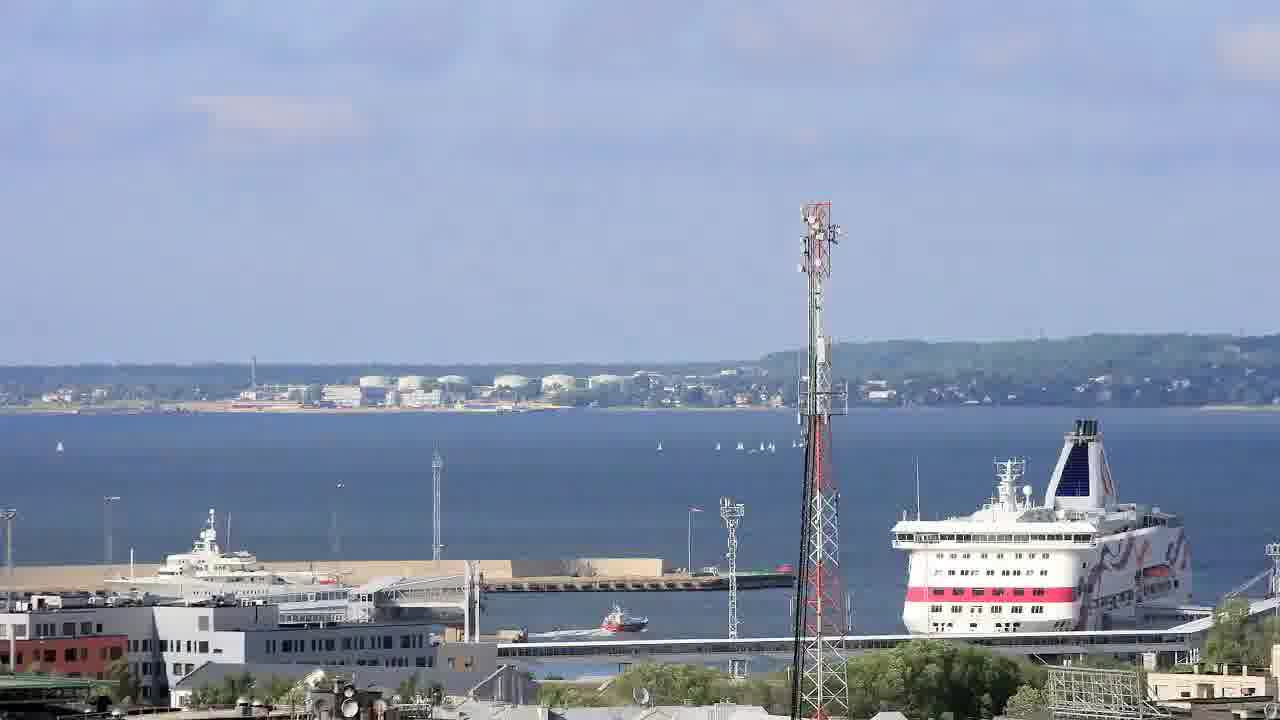type-0: (585, 594, 660, 639)
type-3: (868, 415, 1225, 638), (84, 537, 359, 610)
